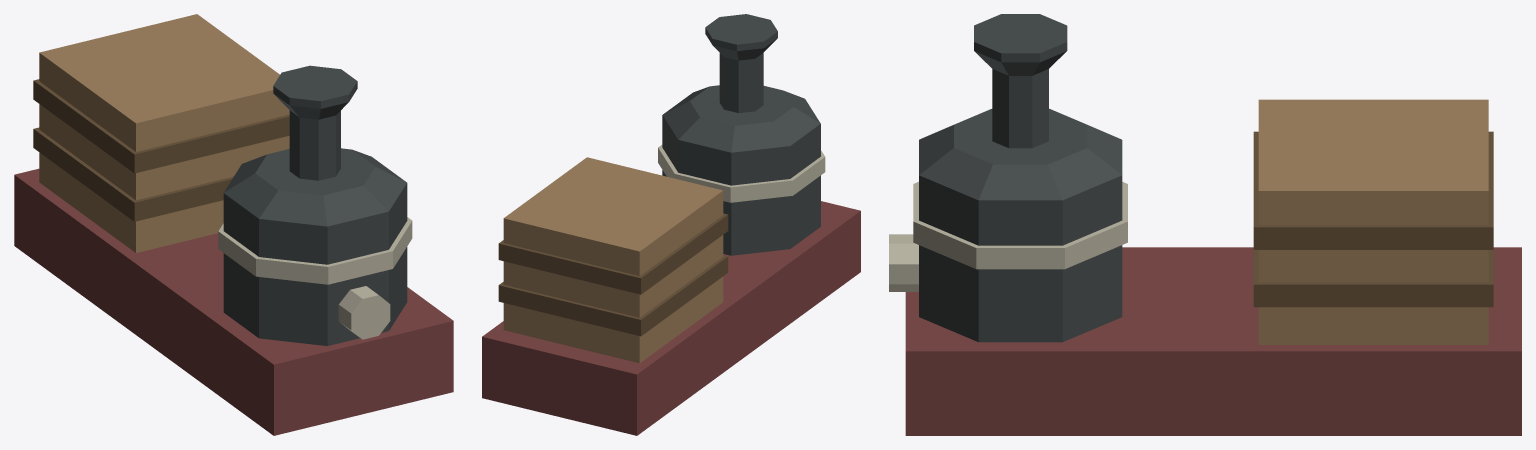
The model's file is cart_body.glb.
3 renders of one model, left to right at view 1: azimuth 30°, elevation 25°; view 2: azimuth 150°, elevation 25°; view 3: azimuth 270°, elevation 25°, orthographic. The views are drawn at different scales.
Parts seen in each view (by area): view 1: Body, Crate, Boiler, Lid, Slat1, Slat0, Band, Stack, Cap, Lamp, Flare; view 2: Body, Crate, Boiler, Lid, Slat1, Slat0, Band, Stack, Cap, Flare; view 3: Body, Crate, Boiler, Lid, Slat1, Slat0, Band, Stack, Cap, Lamp, Flare.
Boxes of the visible parts, x1,y1,x2,y2 form: Body: (14,168,453,435); Crate: (39,14,289,252); Boiler: (223,183,407,345); Lid: (223,148,406,226); Slat1: (33,79,289,173); Slat0: (33,127,233,221); Band: (218,217,412,284); Stack: (289,110,340,180); Cap: (273,65,357,108); Lamp: (338,286,390,339); Flare: (274,94,348,119); Body: (482,201,860,435); Crate: (503,157,723,363); Boiler: (662,115,820,255); Lid: (663,85,820,152); Slat1: (498,213,728,294); Slat0: (498,255,728,336); Band: (658,145,825,202); Stack: (719,53,763,113); Cap: (705,14,777,51); Flare: (713,38,777,60); Body: (905,247,1521,435); Crate: (1258,99,1488,344); Boiler: (919,175,1122,342); Lid: (919,108,1122,200); Slat1: (1253,131,1493,249); Slat0: (1253,250,1493,307); Band: (913,181,1127,269); Stack: (992,69,1048,148); Cap: (974,14,1067,62); Lamp: (889,234,918,291); Flare: (974,51,1066,75).
Size of the model in its own units: 0.74 by 1.16 by 1.9.
